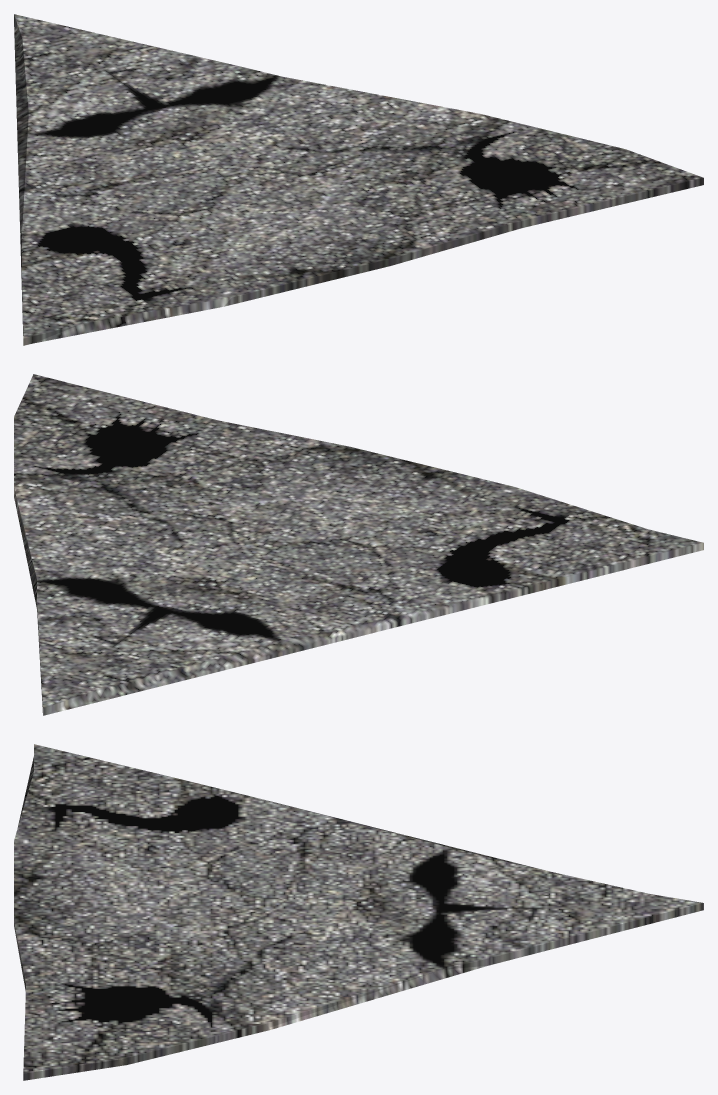
The model's file is BaseTriangleSymbols.fbx.
The picture shows the model from 3 angles, top to bottom: view 1: azimuth 30°, elevation 25°; view 2: azimuth 150°, elevation 25°; view 3: azimuth 270°, elevation 25°; orthographic projection.
Visible parts, largest first — view 1: FloorTriangle; view 2: FloorTriangle; view 3: FloorTriangle.
Part boxes in pixels (bbox=[...]): FloorTriangle: bbox=[14, 14, 703, 345]; FloorTriangle: bbox=[14, 374, 703, 715]; FloorTriangle: bbox=[14, 744, 703, 1080].
Size of the model in its own units: 1613 by 16.41 by 1427.
1 material, 1 textured.
